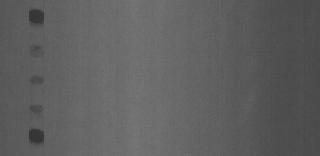oil spot: (26, 126, 49, 148), (24, 6, 48, 26), (27, 40, 48, 60), (26, 101, 50, 116), (27, 73, 48, 86)
